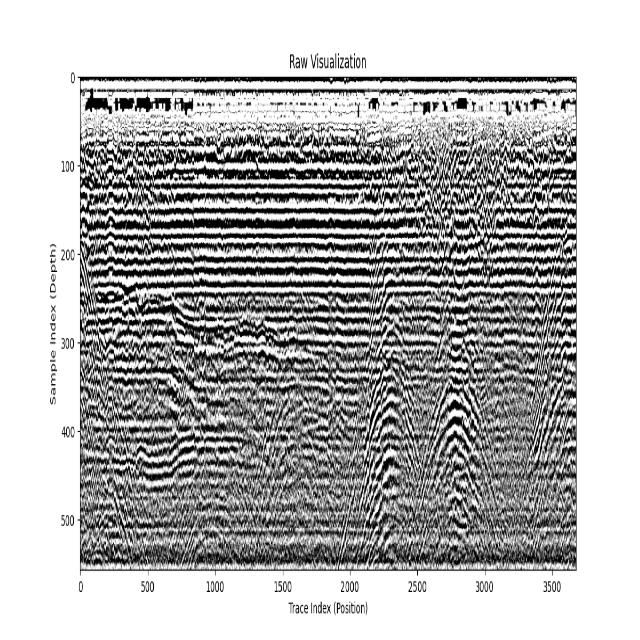anomaly: (81, 241, 320, 392), (418, 227, 505, 562), (344, 250, 423, 572), (247, 350, 339, 560), (521, 234, 574, 555), (90, 409, 144, 574), (176, 510, 242, 564)
